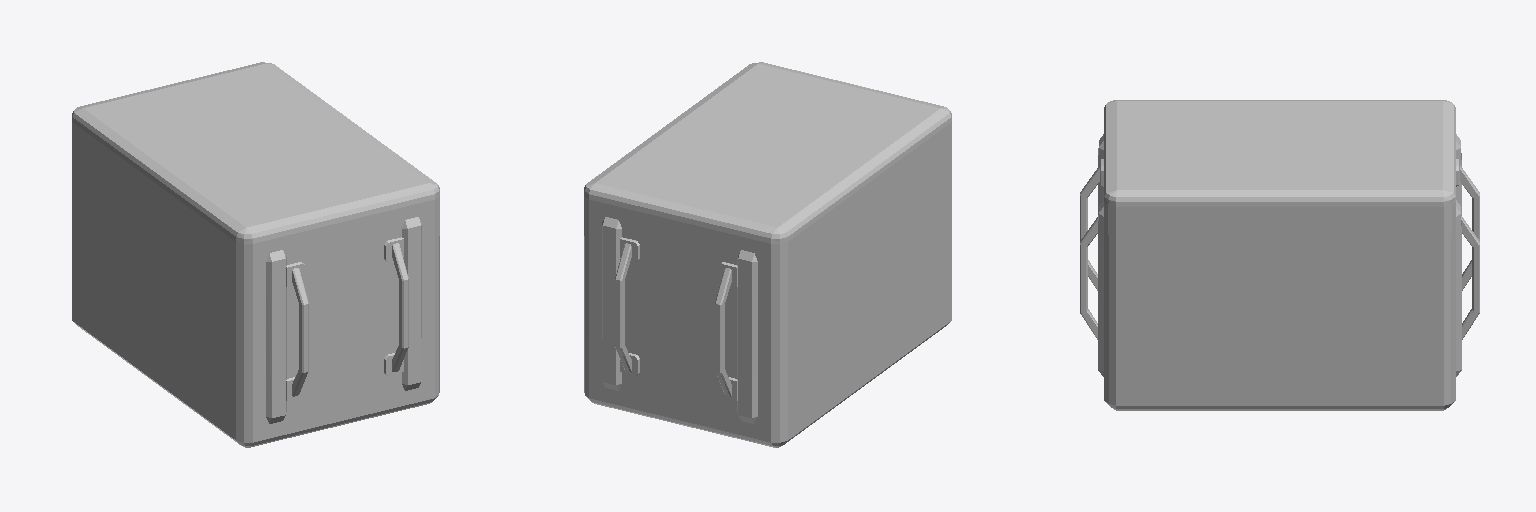
File: container.obj
3 views of the same model, side by side, from view 1: azimuth 30°, elevation 25°; view 2: azimuth 150°, elevation 25°; view 3: azimuth 270°, elevation 25° (orthographic).
Parts seen in each view (by area): view 1: container001; view 2: container001; view 3: container001.
Part boxes in pixels (x1,y1,x2,y2): container001: (72,62,439,447); container001: (584,62,951,447); container001: (1080,100,1479,410).
Size of the model in its own units: 2.02 by 2.09 by 3.45.